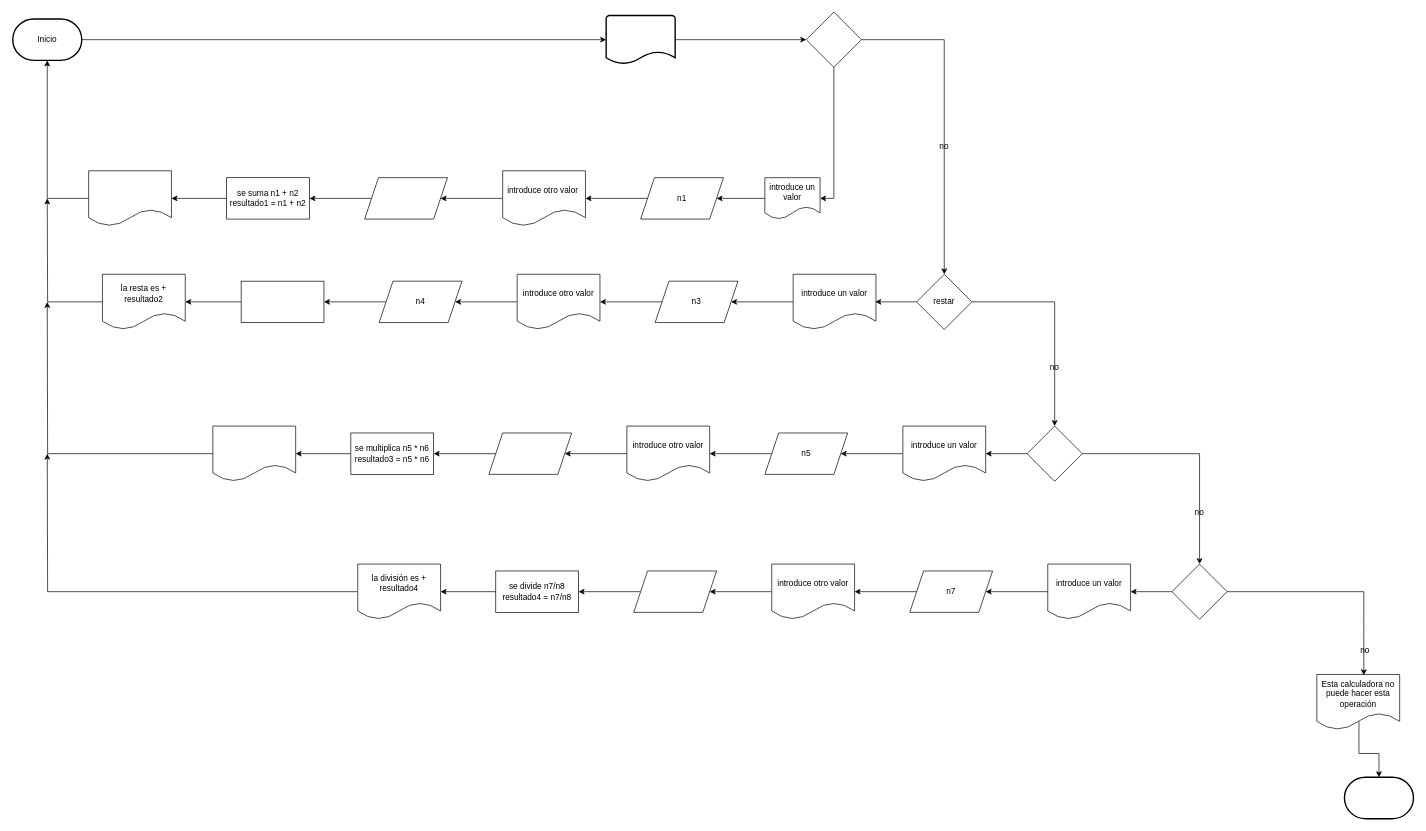
Image size: 1426x831. Some labels were removed from this diagram. The shapes that lost their labels are listed below. From the top down, each one's box as (x1, y1, x2, y2) in pixels, then its label:
(605, 14, 676, 64): ¿Qué operación quieres hacer?
(806, 11, 861, 67): sumar
(88, 170, 171, 226): la suma es + resultado1
(364, 177, 447, 219): n2
(240, 280, 324, 323): se resta n3 - n4 resultado2 = n3 - n4
(212, 425, 296, 481): la multiplicación es + resultado3
(488, 432, 572, 474): n6
(1026, 425, 1082, 481): multiplicar
(633, 570, 717, 612): n8
(1171, 563, 1227, 619): dividir
(1343, 776, 1414, 819): Fin
